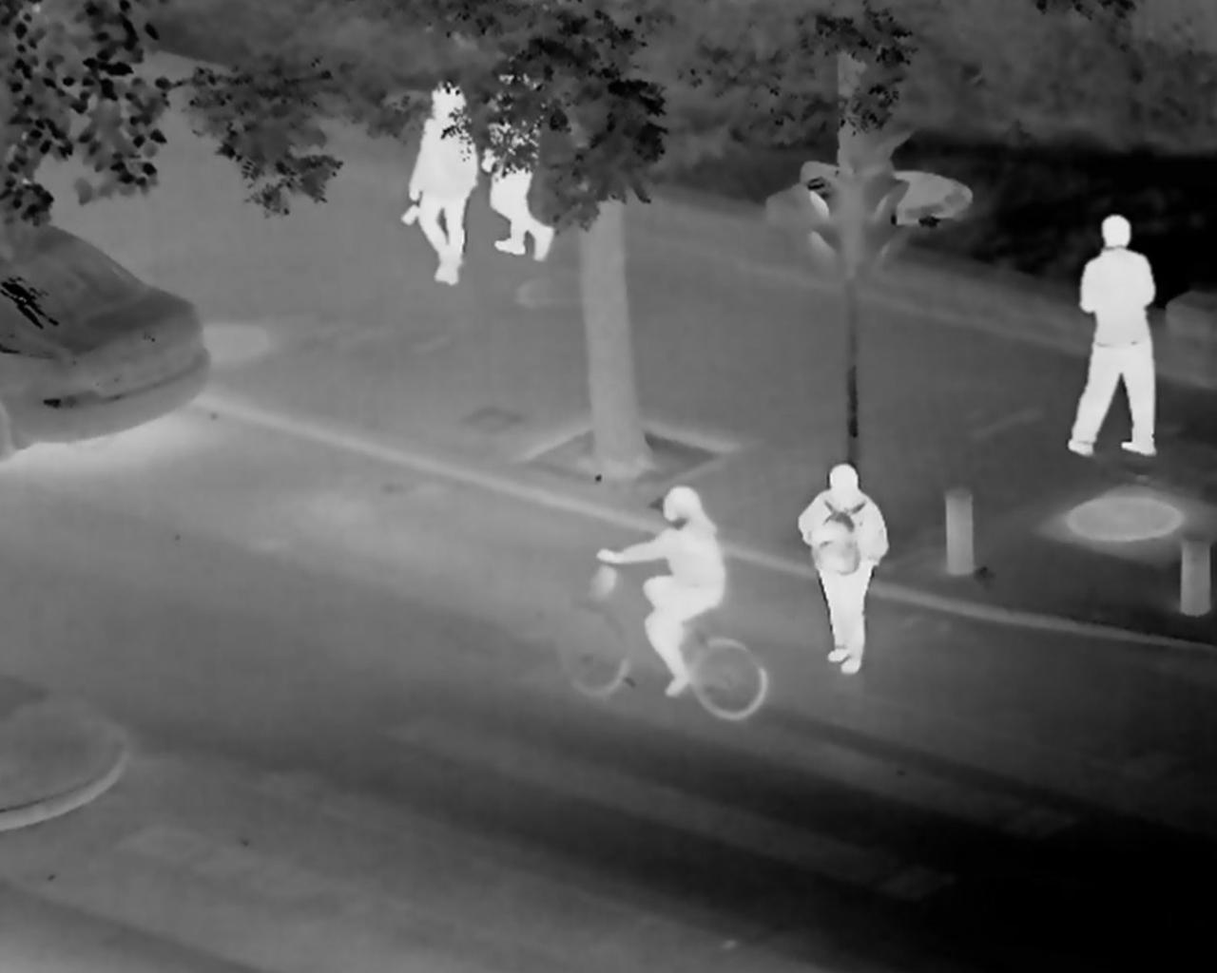person: (608, 492, 748, 688), (1062, 209, 1169, 461), (777, 450, 892, 682), (408, 87, 477, 285)
